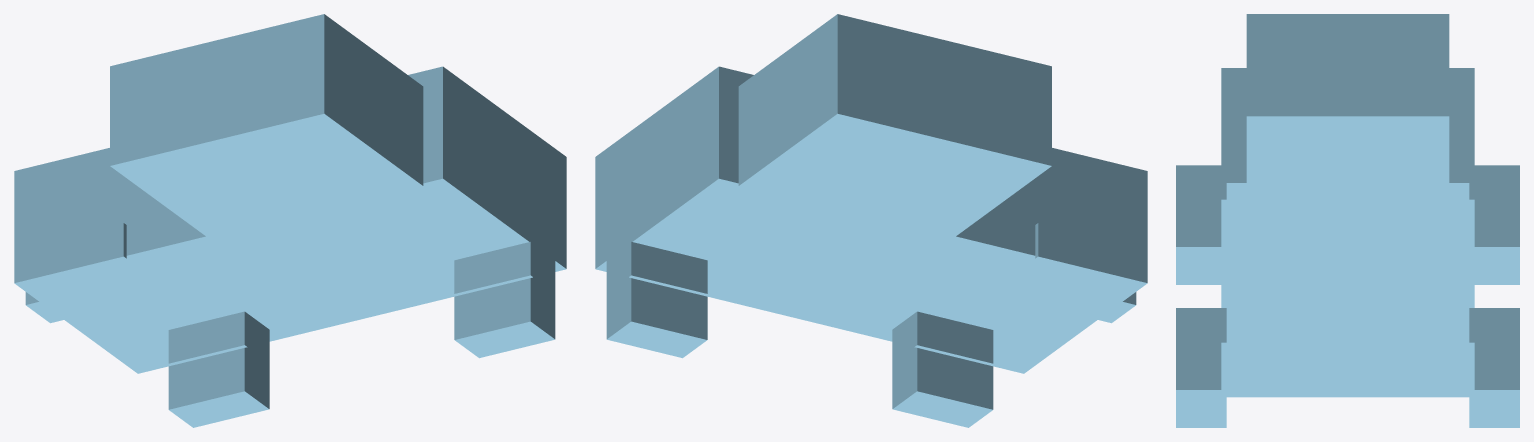
The model's file is car.glb.
3 views of the same model, side by side, from view 1: azimuth 30°, elevation 25°; view 2: azimuth 150°, elevation 25°; view 3: azimuth 270°, elevation 25° (orthographic). The views are drawn at different scales.
Parts seen in each view (by area): view 1: Body, Cabin, WheelBL, WheelFL, WheelBR; view 2: Body, Cabin, WheelBR, WheelFR, WheelBL; view 3: Body, Cabin, WheelFL, WheelFR, WheelBL, WheelBR.
Boxes of the visible parts, x1=… form: Body: x1=14, y1=66, x2=566, y2=373; Cabin: x1=110, y1=14, x2=423, y2=238; WheelBL: x1=168, y1=311, x2=269, y2=427; WheelFL: x1=454, y1=241, x2=555, y2=358; WheelBR: x1=25, y1=223, x2=126, y2=323; Body: x1=595, y1=66, x2=1147, y2=373; Cabin: x1=738, y1=14, x2=1051, y2=238; WheelBR: x1=892, y1=311, x2=993, y2=427; WheelFR: x1=606, y1=241, x2=707, y2=358; WheelBL: x1=1035, y1=223, x2=1136, y2=323; Body: x1=1221, y1=68, x2=1474, y2=397; Cabin: x1=1246, y1=14, x2=1449, y2=223; WheelFL: x1=1176, y1=308, x2=1226, y2=427; WheelFR: x1=1469, y1=308, x2=1519, y2=427; WheelBL: x1=1176, y1=165, x2=1226, y2=284; WheelBR: x1=1469, y1=165, x2=1519, y2=284.
Size of the model in its own units: 1.8 by 1.01 by 1.22.
